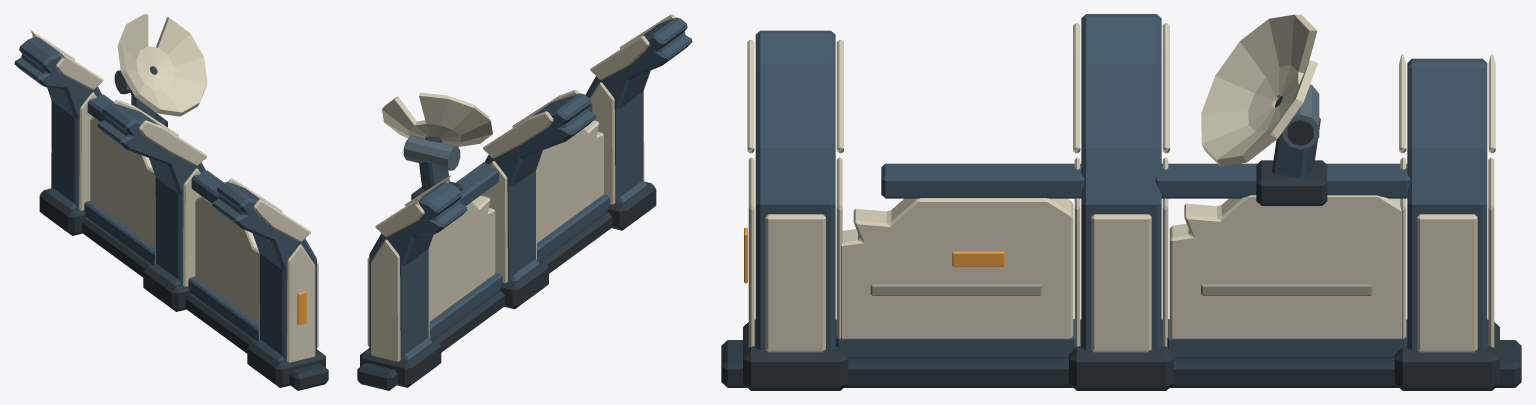
Rendered from survey-right-wall.glb.
3 views of the same model, side by side, from view 1: azimuth 30°, elevation 25°; view 2: azimuth 150°, elevation 25°; view 3: azimuth 270°, elevation 25° (orthographic). The views are drawn at different scales.
Visible parts, largest first — view 1: survey-right-wall; view 2: survey-right-wall; view 3: survey-right-wall.
Part boxes in pixels (<box>): survey-right-wall: <box>14,14,328,390</box>; survey-right-wall: <box>357,14,692,390</box>; survey-right-wall: <box>721,14,1521,390</box>.
Bounding box in the file's own units: 2.29 × 3.51 × 7.
1 material, 1 textured.
